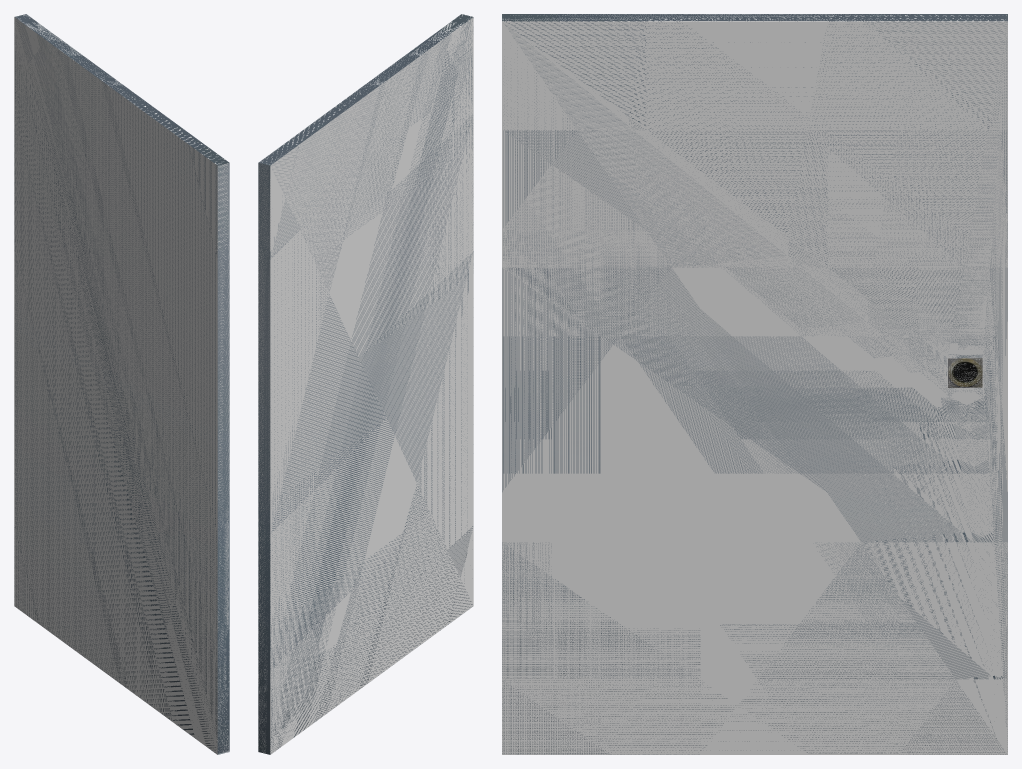
Rendered from locker_sliding_door.dae.
The picture shows the model from 3 angles, left to right: view 1: azimuth 30°, elevation 25°; view 2: azimuth 150°, elevation 25°; view 3: azimuth 270°, elevation 25°; orthographic projection. The views are drawn at different scales.
Visible parts, largest first — view 1: SketchUp; view 2: SketchUp; view 3: SketchUp (×2).
Part boxes in pixels (x1,y1,x2,y2): SketchUp: (14, 14, 229, 754); SketchUp: (258, 14, 473, 754); SketchUp (×2): (502, 14, 1007, 754).
Size of the model in its own units: 0.0513 by 1.5 by 2.4.
Materials: 5 (4 with a texture image).
